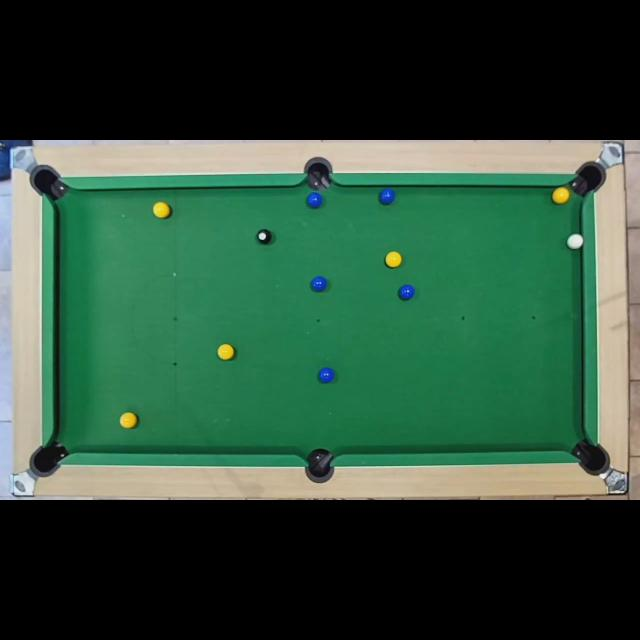Ball: (216, 344, 234, 360), (118, 413, 136, 429), (153, 202, 170, 218), (318, 367, 334, 383), (379, 189, 395, 205), (311, 276, 327, 292), (553, 187, 569, 203), (398, 285, 414, 301), (386, 252, 402, 268), (306, 193, 322, 209), (256, 230, 272, 244), (567, 234, 583, 248)
